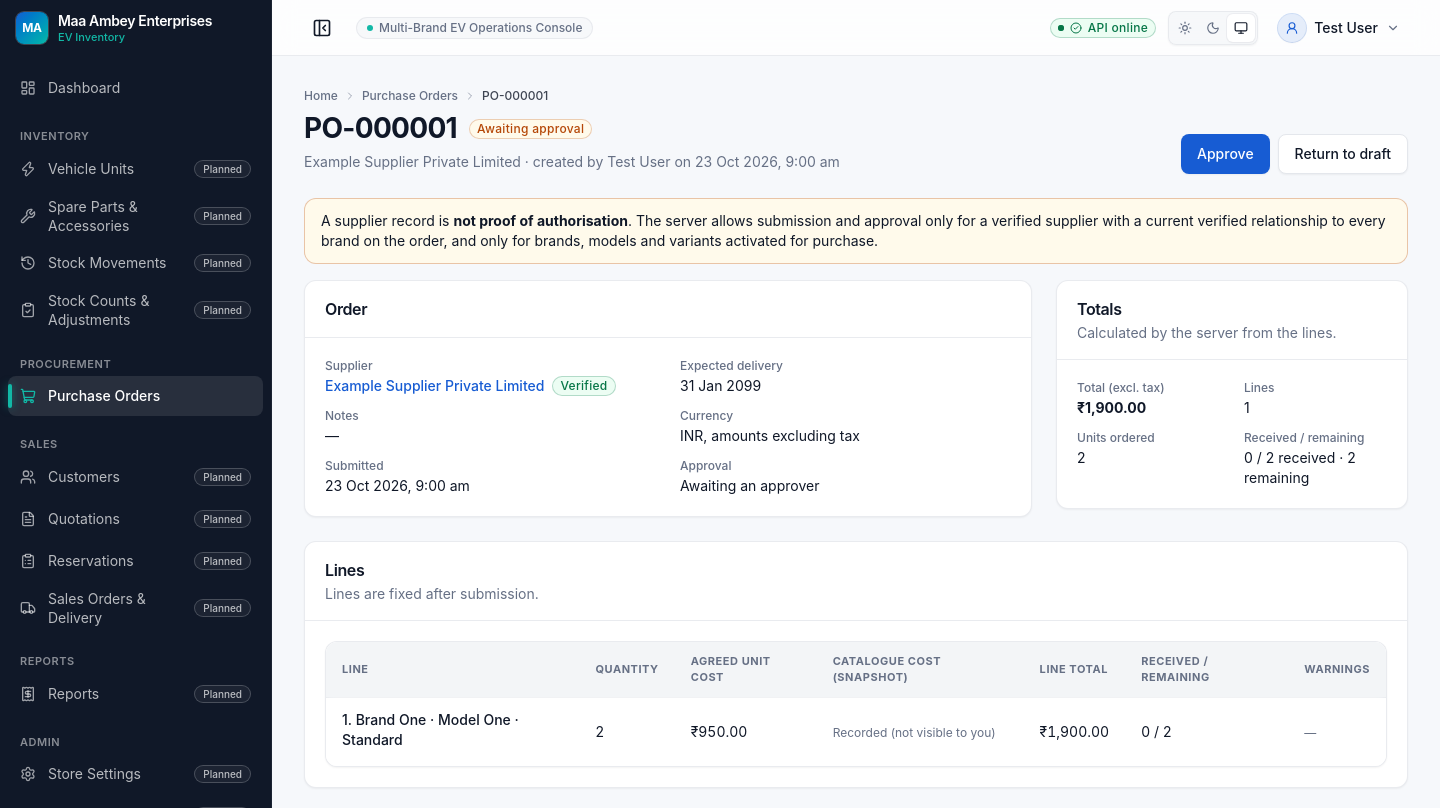
Test: purchase order detail › offers approval only as the server allows and shows success only after it confirms
Check: the text "Awaiting approval" is shown, box [477, 121, 584, 137]
Click the button "Approve".
click(1225, 154)  # box [1181, 134, 1270, 174]
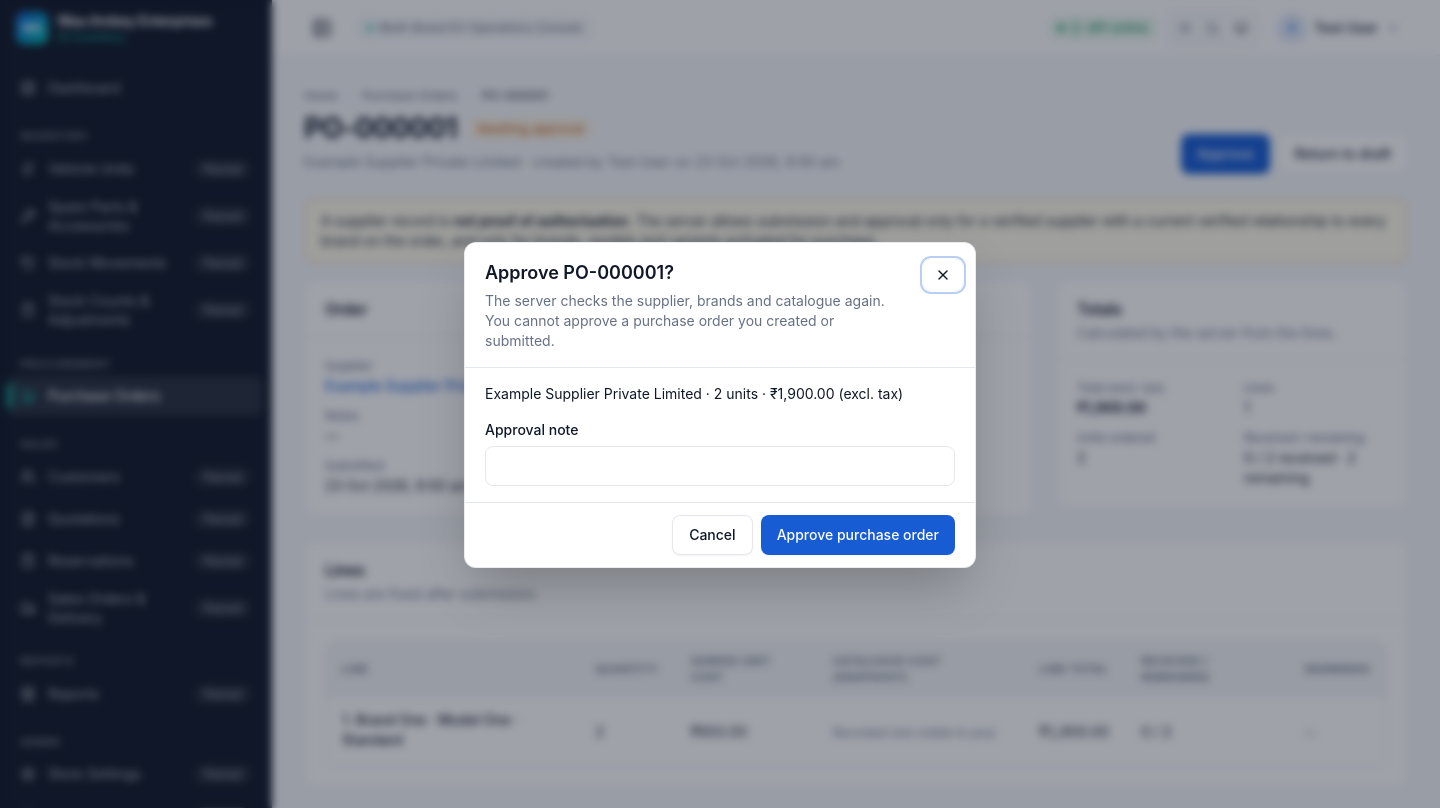
Click the button "Approve purchase order".
click(858, 535)  # box [761, 515, 955, 555]
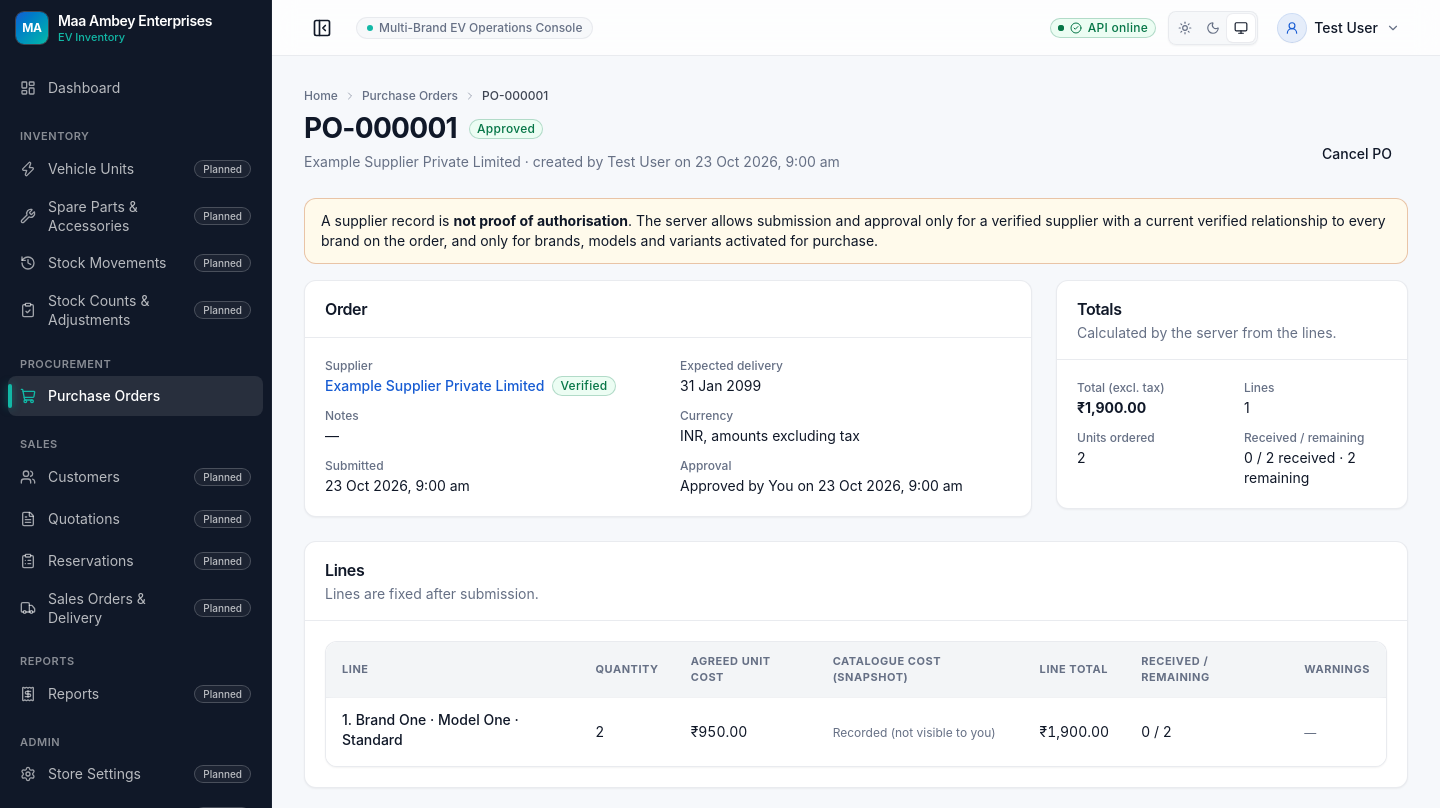
Check: the dialog is gone
Check: the text "Approved" is shown, box [477, 121, 535, 137]
